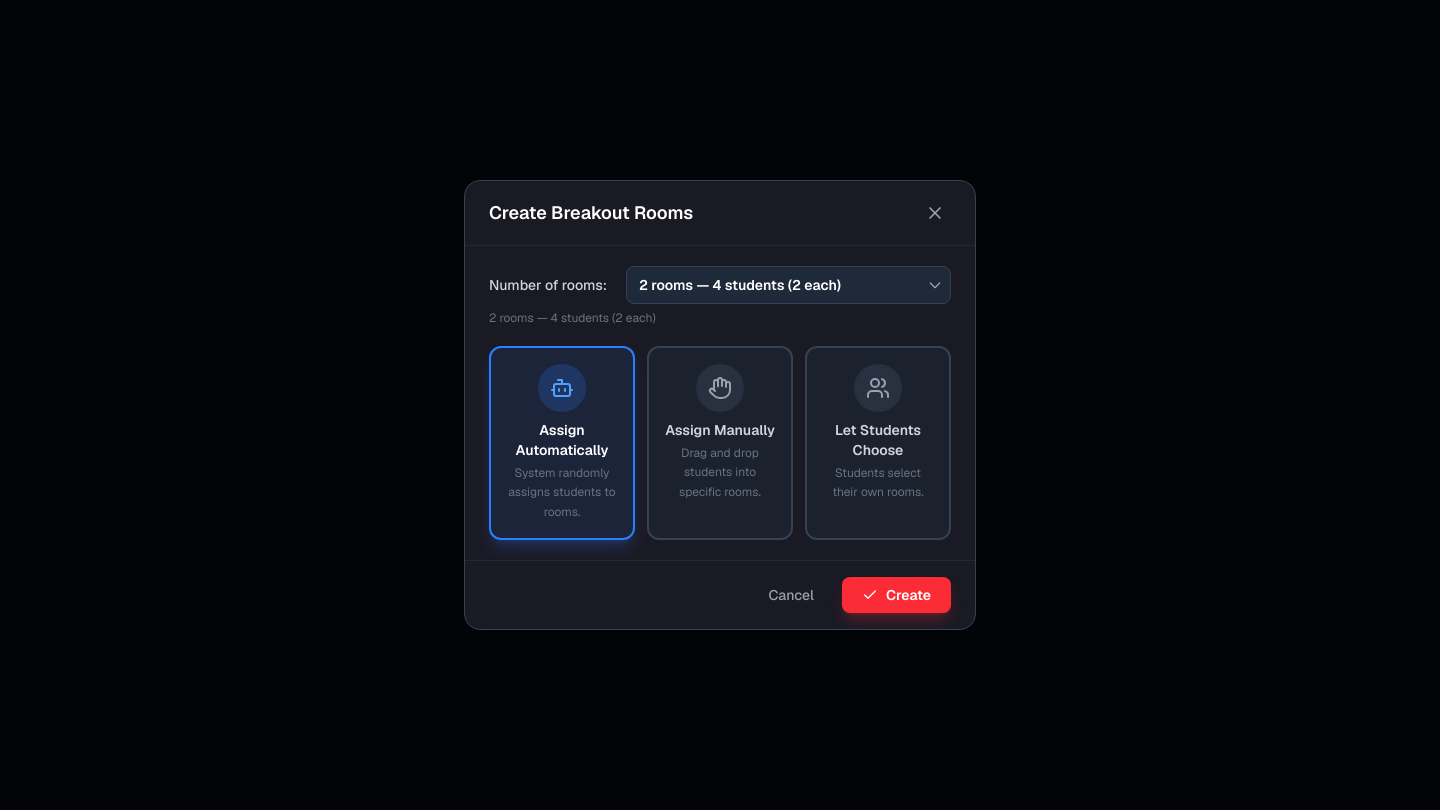
Test case: CreateBreakoutModal › in manual mode, clicking assign moves student to room column
The width and height of the screenshot is (1440, 810).
Click the button with test id "mode-manual". click: click(720, 443)
box: [647,346,793,540]
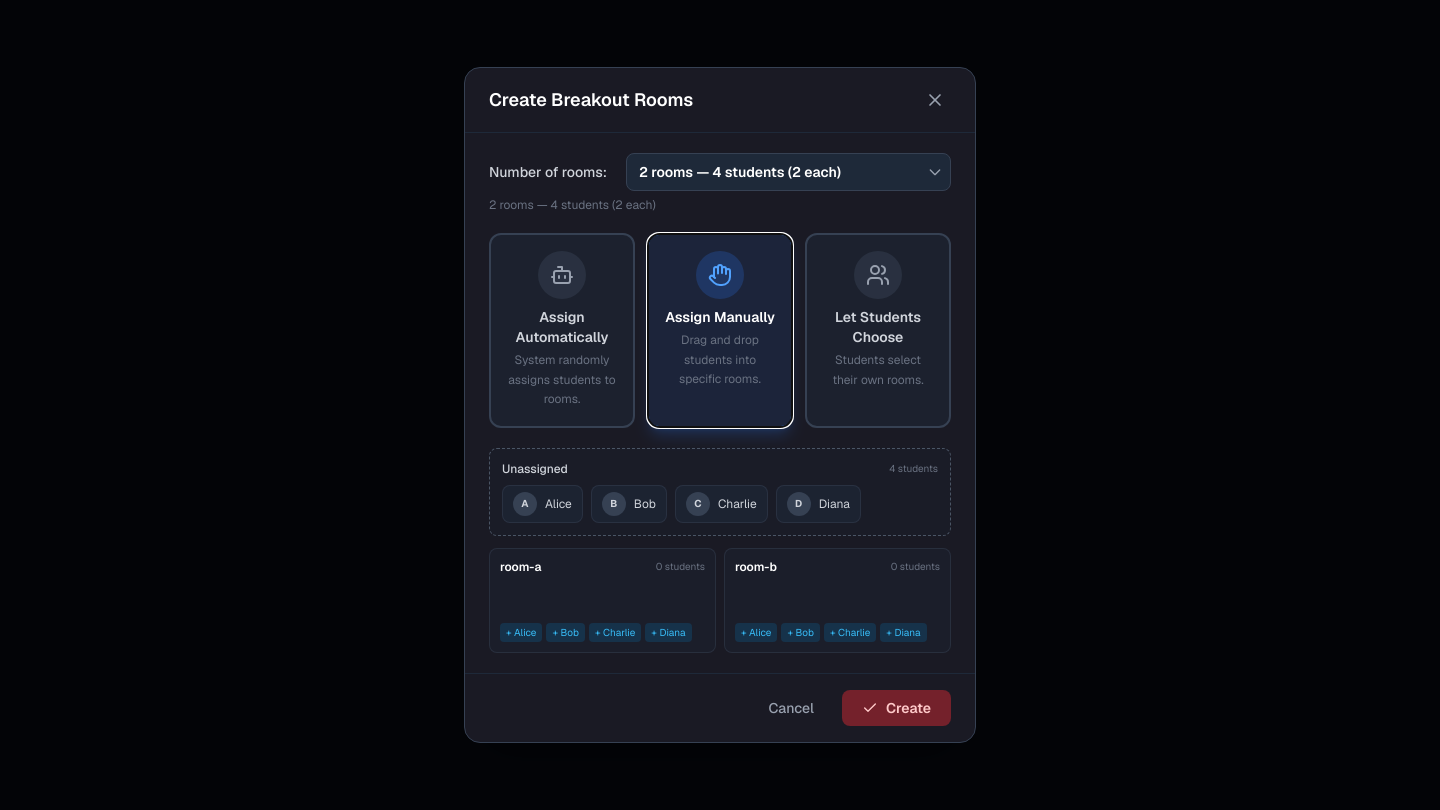
Result: the element with test id "manual-unassigned-pool" is shown at [489,448,951,536]
Result: the button with test id "^manual-assign-btn-" is shown
Click the button with test id "^manual-assign-btn-". click: click(521, 632)
box: [500,623,542,642]
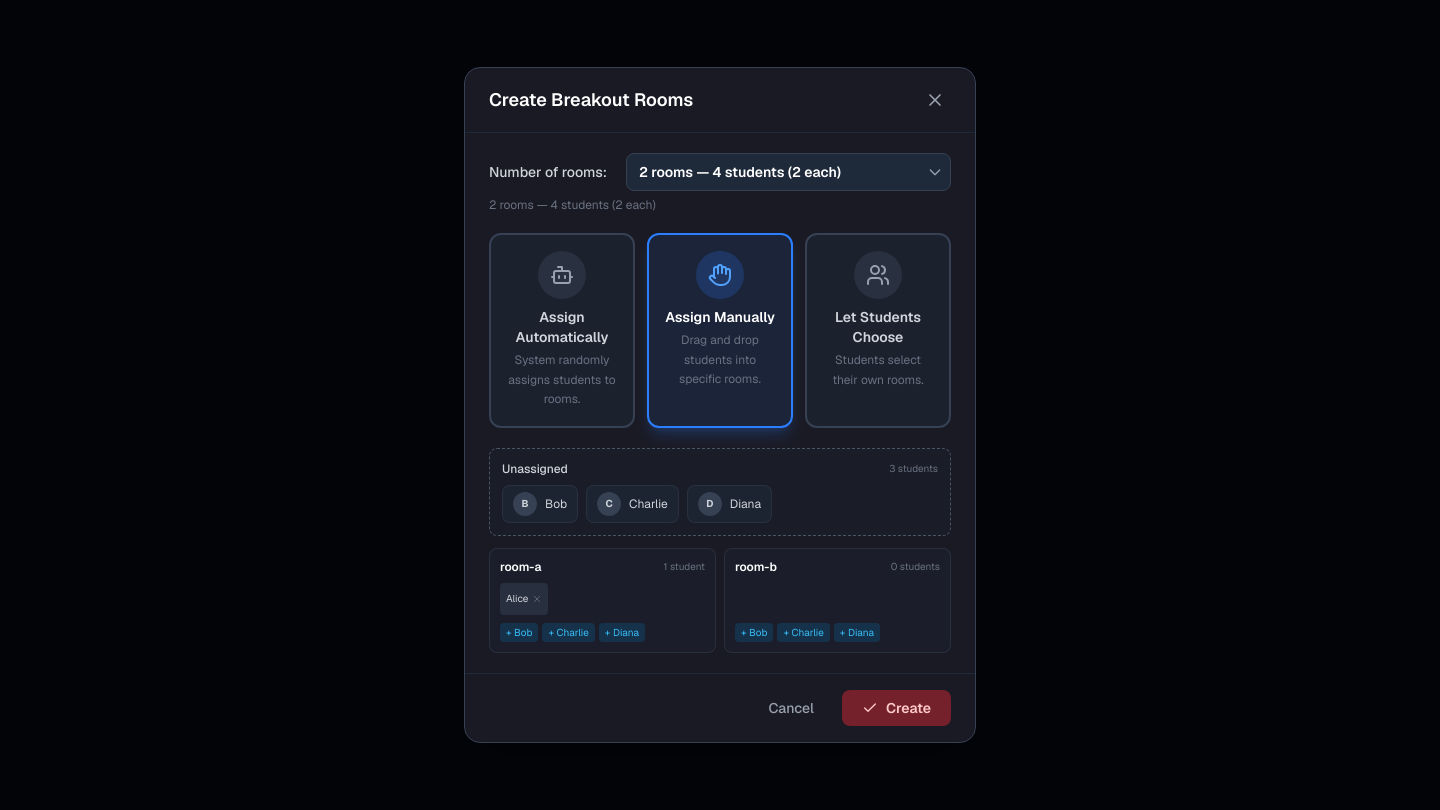
Result: the element with test id "manual-unassigned-pool" shows "3 students" at [489,448,951,536]
